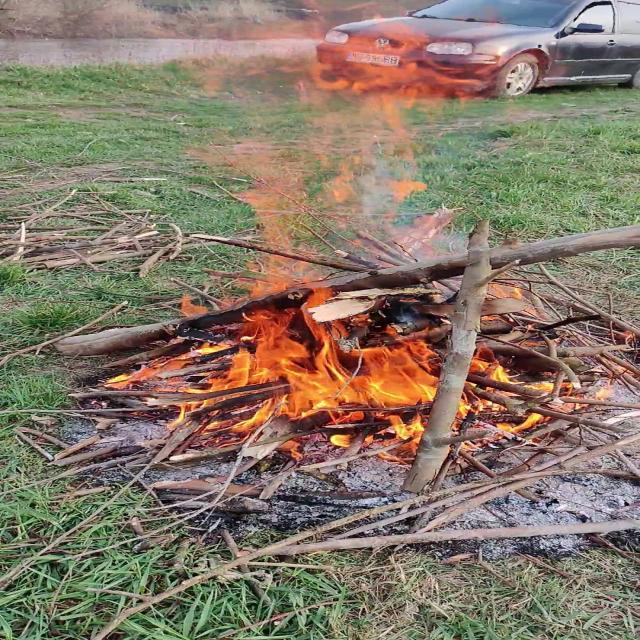Fire: (84, 16, 597, 454)
